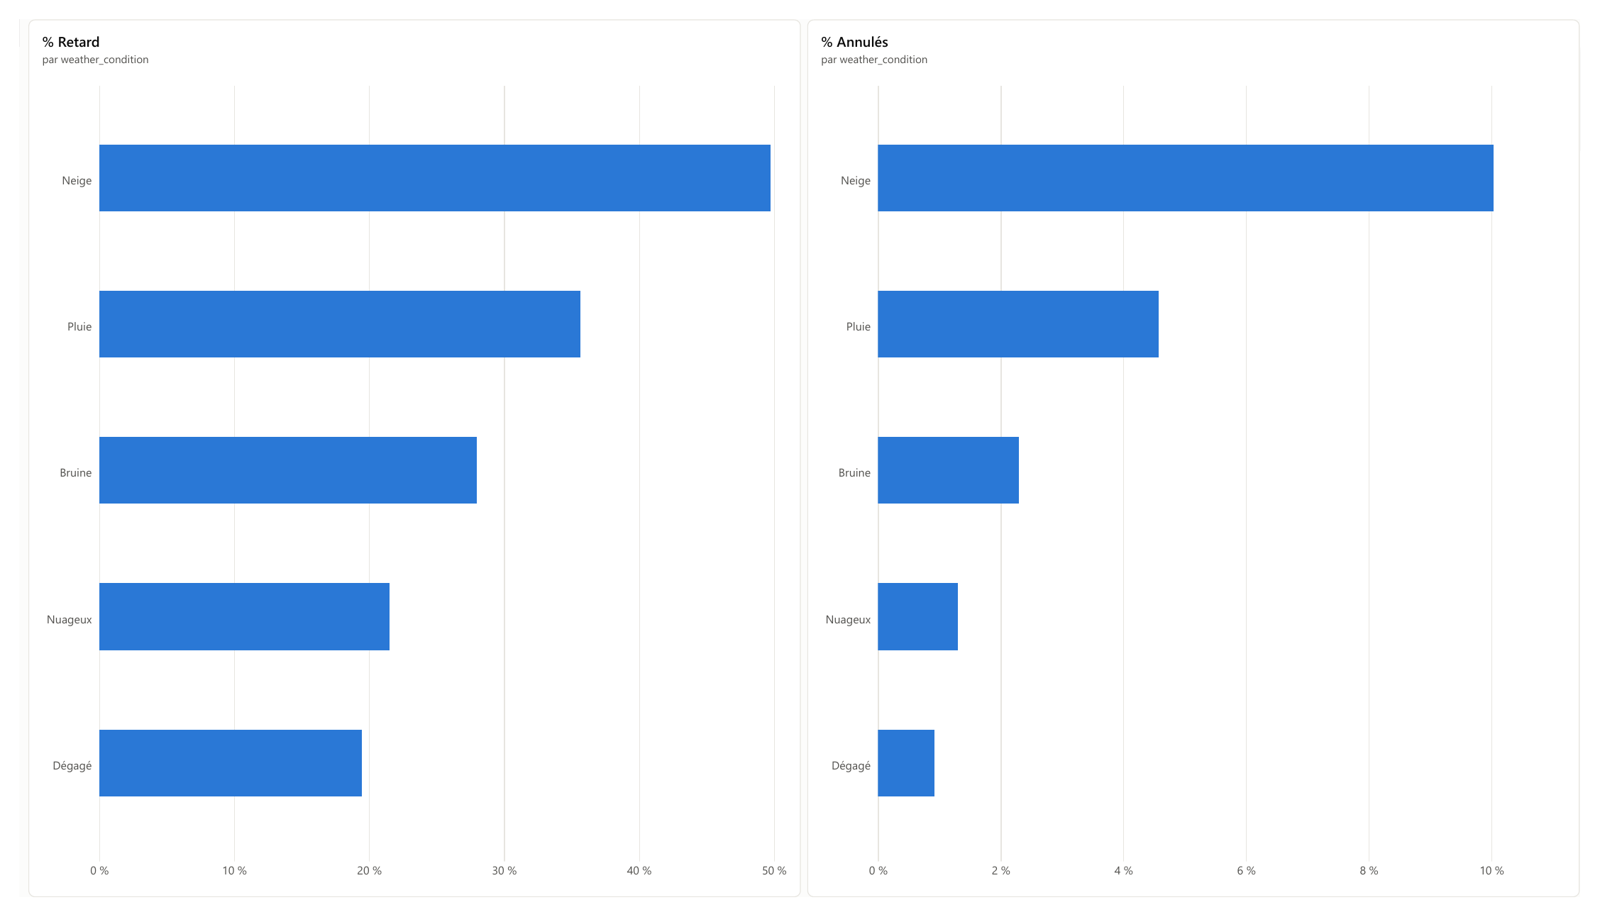

Layout of this report page (visuals, bound fields, positions):
{"tool":"powerbi","page":{"name":"Météo","canvas":[1920,1080],"ordinal":1},"visuals":[{"type":"clusteredBarChart","fields":{"Category":["fact_flights.weather_condition"],"Y":["fact_flights.% Retard"]},"box":[11.3,0,949.6,1080],"z":0},{"type":"clusteredBarChart","fields":{"Category":["fact_flights.weather_condition"],"Y":["fact_flights.% Annulés"]},"box":[969.5,0,949.6,1080],"z":1}]}

Visuals, with their boxes in screenshot pixels (x1, y1, x2, y2), scaled from the page's 1920x1080 canvas onto the 1600x917 screenshot:
clusteredBarChart - fact_flights.weather_condition x fact_flights.% Retard: [x1=9, y1=0, x2=801, y2=916]
clusteredBarChart - fact_flights.weather_condition x fact_flights.% Annulés: [x1=808, y1=0, x2=1599, y2=916]
